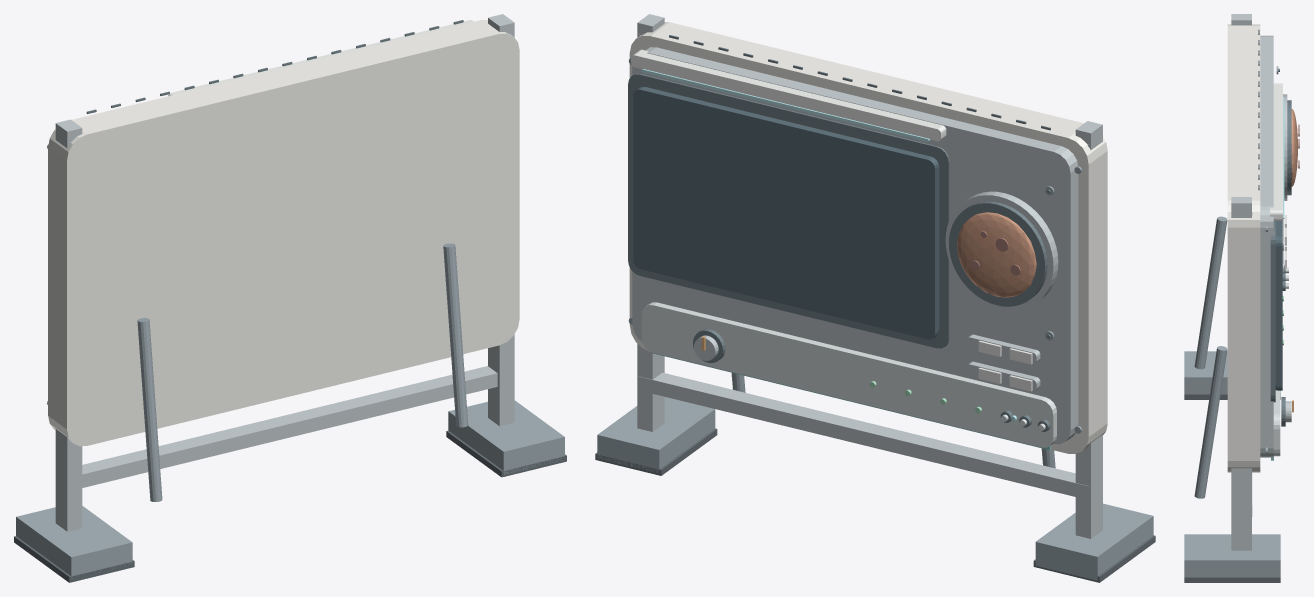
File: mars_survey_board.glb
3 views of the same model, side by side, from view 1: azimuth 30°, elevation 25°; view 2: azimuth 150°, elevation 25°; view 3: azimuth 270°, elevation 25° (orthographic). The views are drawn at different scales.
Visible parts, largest first — view 1: static_shell__shell_warm, frame__aluminum, feet__steel, static_rear_bracing__steel, feet__rubber, static_top_light__shell; view 2: map_screen_mount__panel, static_bezel__aluminum, static_shell__shell_warm, static_lower_console__light_gray, frame__aluminum, feet__steel, map_screen_frame__graphite, static_top_light__shell, mars_reference_orb__Mars, static_planet_frame__graphite, static_planet_frame__aluminum, feet__rubber (+3 smaller); view 3: static_shell__shell_warm, static_bezel__aluminum, feet__steel, static_rear_bracing__steel, frame__aluminum, static_top_light__shell, map_screen_mount__panel, map_screen_frame__graphite, feet__rubber, static_lower_console__light_gray, static_planet_frame__graphite, mars_reference_orb__Mars (+3 smaller).
Boxes of the visible parts, x1,y1,x2,y2 form: static_shell__shell_warm: [48, 20, 519, 446]; frame__aluminum: [55, 14, 514, 531]; feet__steel: [16, 400, 564, 579]; static_rear_bracing__steel: [137, 243, 468, 501]; feet__rubber: [14, 430, 566, 582]; static_top_light__shell: [168, 20, 473, 96]; map_screen_mount__panel: [633, 86, 939, 339]; static_bezel__aluminum: [632, 47, 1078, 444]; static_shell__shell_warm: [629, 22, 1107, 453]; static_lower_console__light_gray: [641, 302, 1056, 447]; frame__aluminum: [637, 14, 1102, 538]; feet__steel: [597, 397, 1153, 580]; map_screen_frame__graphite: [628, 73, 949, 348]; static_top_light__shell: [631, 49, 946, 141]; mars_reference_orb__Mars: [957, 212, 1036, 297]; static_planet_frame__graphite: [948, 201, 1047, 306]; static_planet_frame__aluminum: [945, 191, 1058, 310]; feet__rubber: [595, 428, 1155, 582]; static_shell__shell_warm: [1227, 24, 1260, 472]; static_bezel__aluminum: [1260, 35, 1273, 457]; feet__steel: [1184, 351, 1280, 576]; static_rear_bracing__steel: [1194, 216, 1227, 498]; frame__aluminum: [1231, 14, 1252, 550]; static_top_light__shell: [1270, 83, 1282, 220]; map_screen_mount__panel: [1275, 221, 1282, 390]; map_screen_frame__graphite: [1270, 221, 1275, 402]; feet__rubber: [1184, 394, 1280, 582]; static_lower_console__light_gray: [1273, 390, 1280, 456]; static_planet_frame__graphite: [1287, 100, 1291, 195]; mars_reference_orb__Mars: [1291, 109, 1297, 186].
Bounding box in the file's own units: 2.44 × 1.99 × 0.563.
